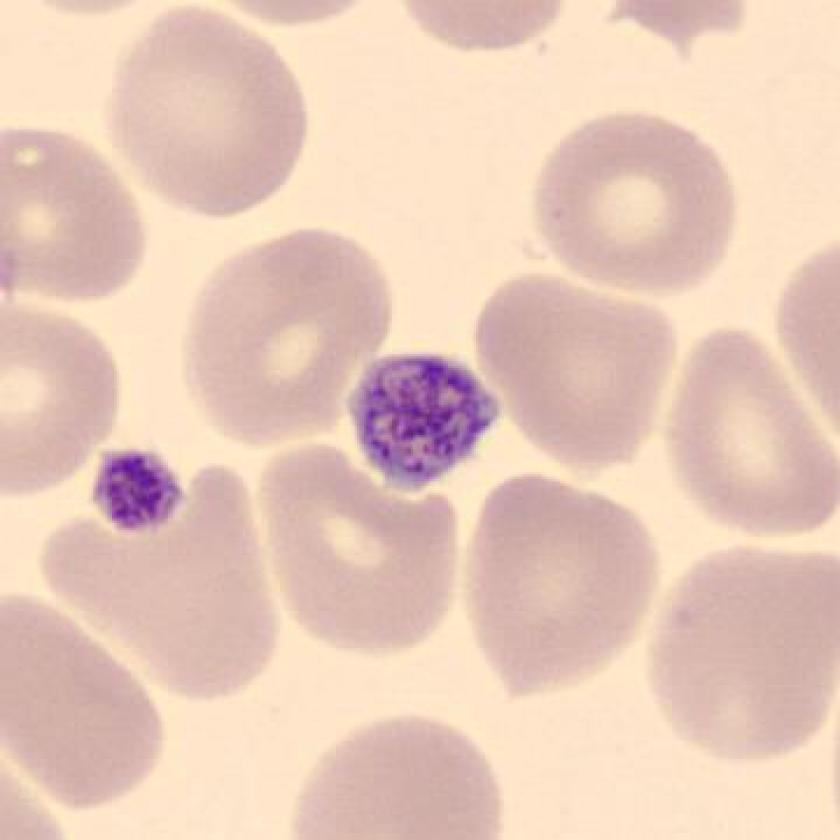platelets: (346, 341, 505, 499), (83, 438, 188, 538)
